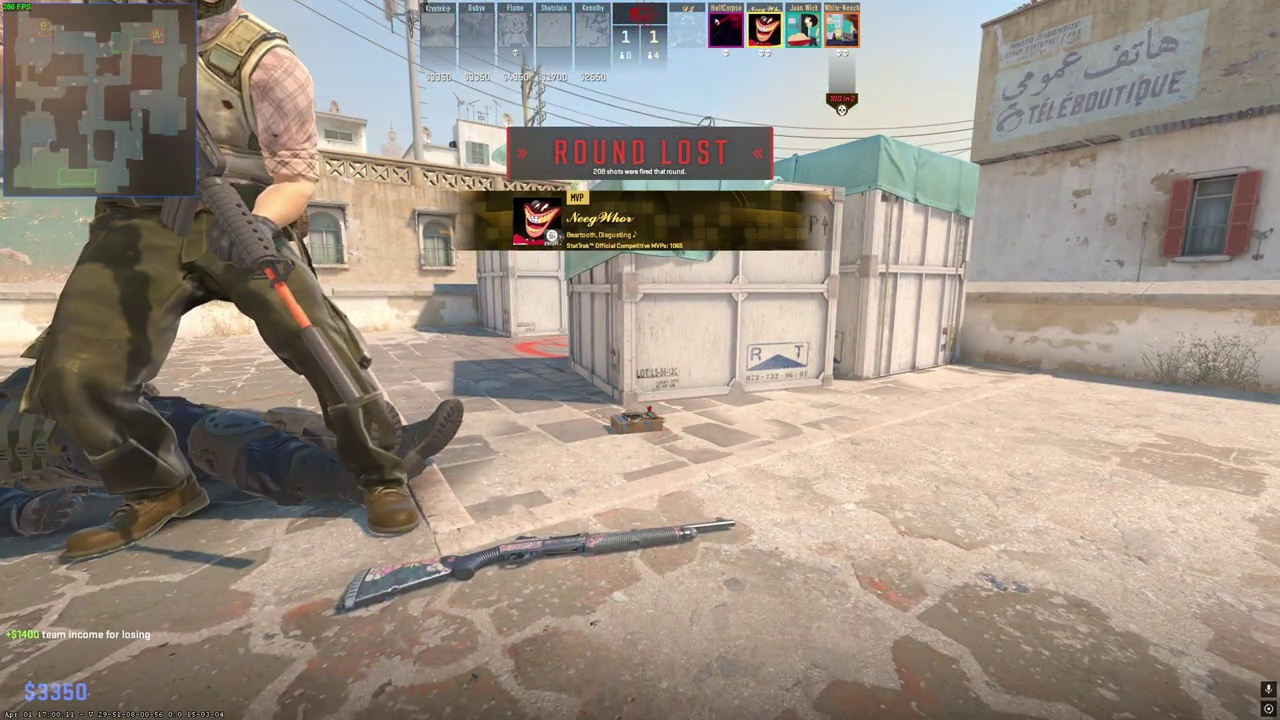Terrorist: (71, 0, 367, 542)
